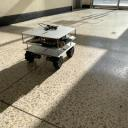cart: (20, 25, 76, 69)
